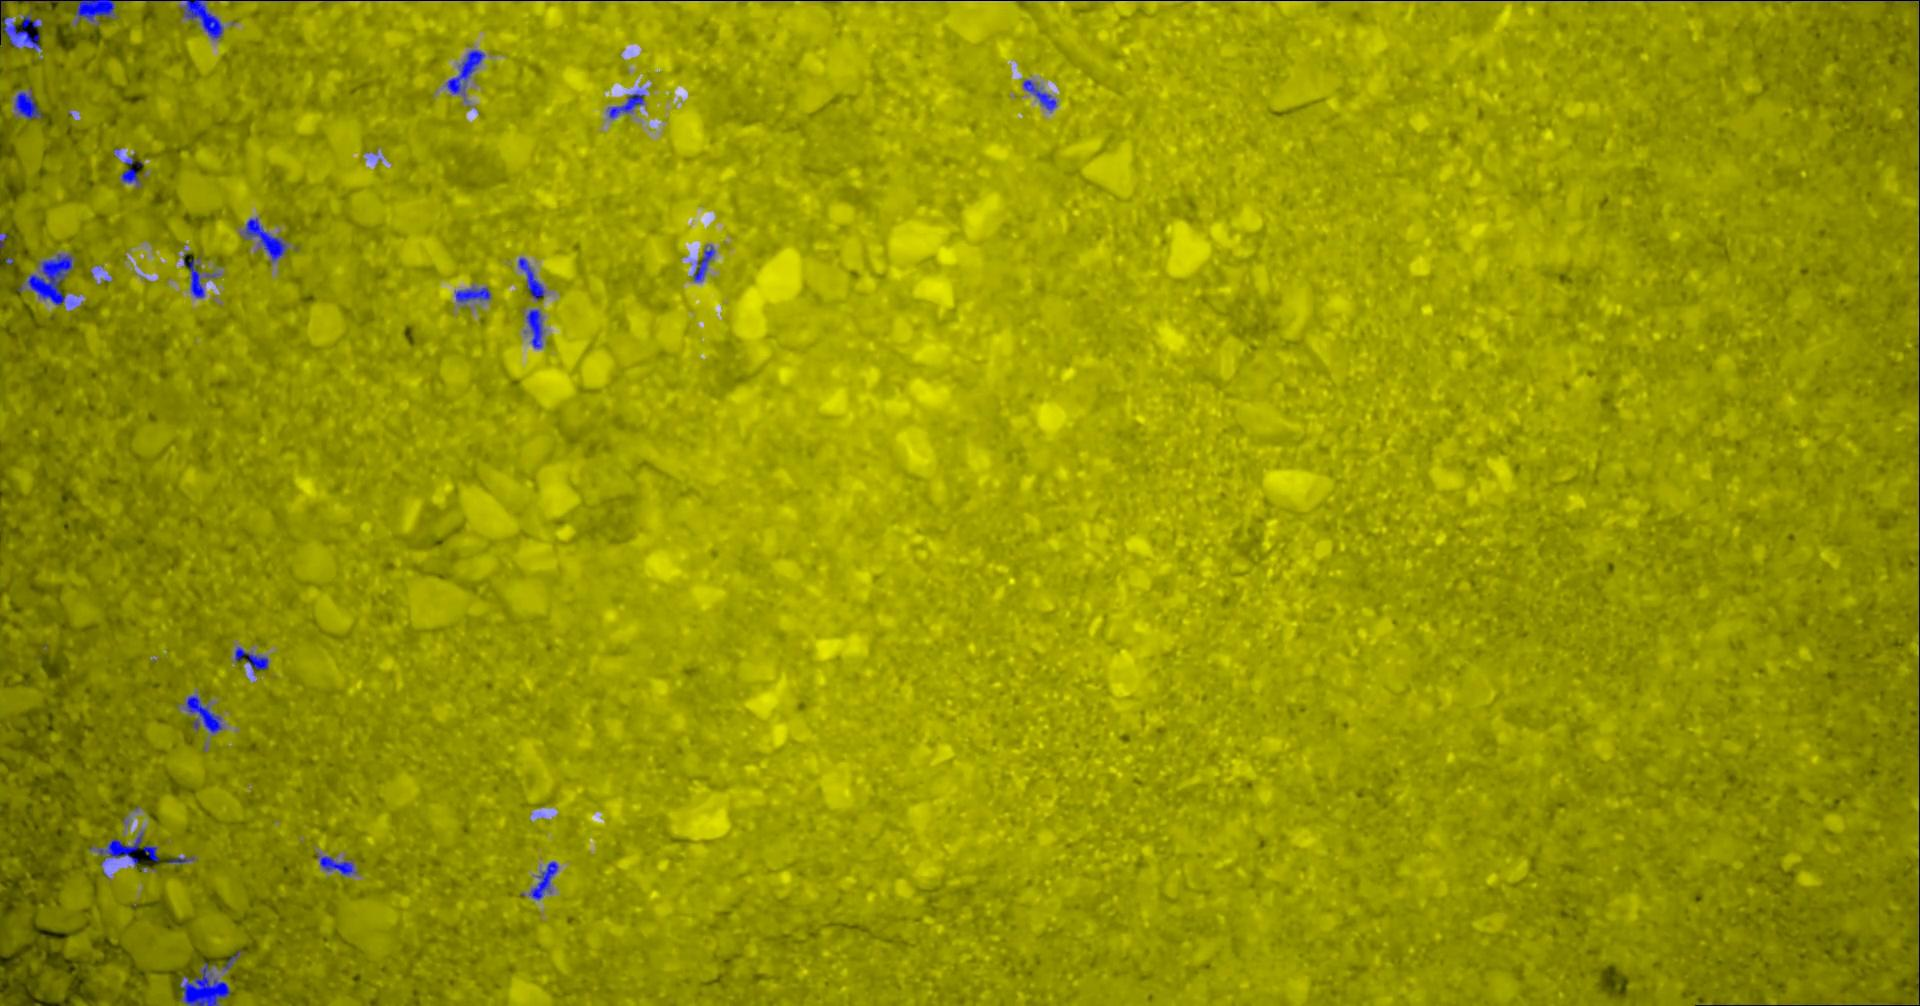ant: (11, 0, 114, 22), (97, 831, 157, 866), (243, 217, 286, 262), (444, 50, 484, 95), (0, 9, 41, 51), (180, 0, 223, 38), (519, 861, 557, 899), (185, 694, 222, 733), (517, 257, 543, 300), (1022, 79, 1057, 111), (234, 647, 268, 674), (183, 255, 204, 297), (608, 93, 644, 118), (14, 88, 41, 119), (317, 854, 356, 875), (692, 245, 714, 281), (524, 309, 542, 348), (119, 156, 142, 184), (455, 287, 490, 302), (222, 949, 241, 970), (168, 856, 193, 864)
